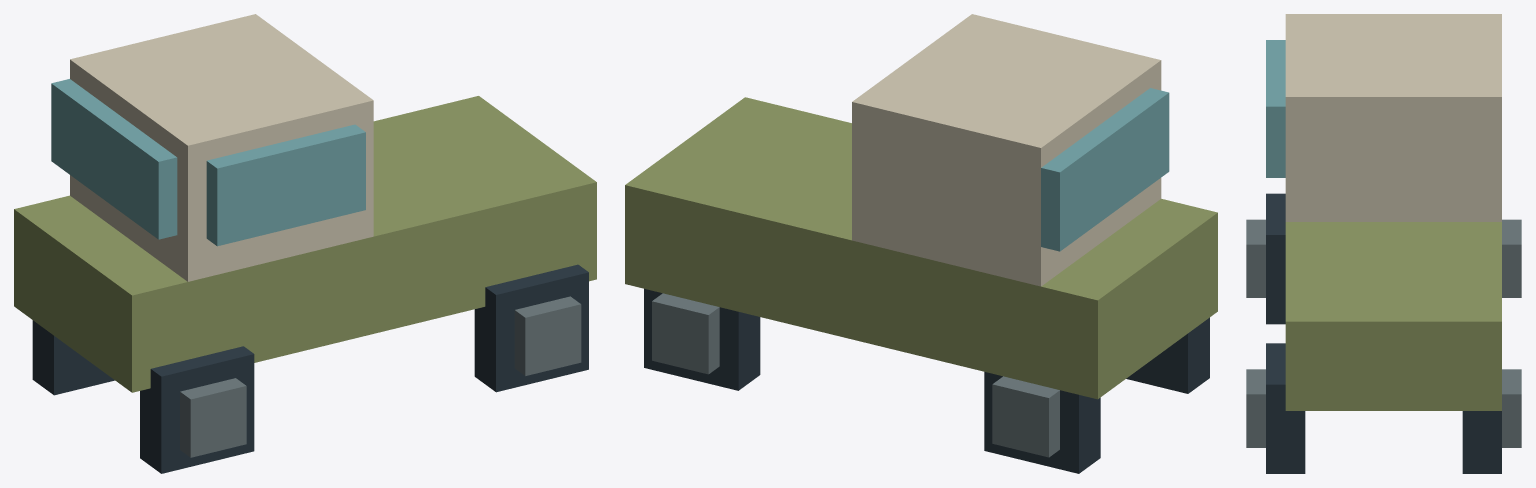
File: agriculture-01.glb
The picture shows the model from 3 angles, left to right: view 1: azimuth 30°, elevation 25°; view 2: azimuth 150°, elevation 25°; view 3: azimuth 270°, elevation 25°; orthographic projection. The views are drawn at different scales.
Visible parts, largest first — view 1: Farm tractor; view 2: Farm tractor; view 3: Farm tractor.
Boxes of the visible parts, x1,y1,x2,y2 form: Farm tractor: [14, 14, 596, 473]; Farm tractor: [625, 14, 1217, 473]; Farm tractor: [1246, 14, 1521, 473].
Bounding box in the file's own units: 2 × 1.28 × 1.12.
